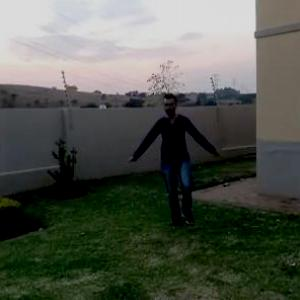land: (128, 91, 223, 239)
